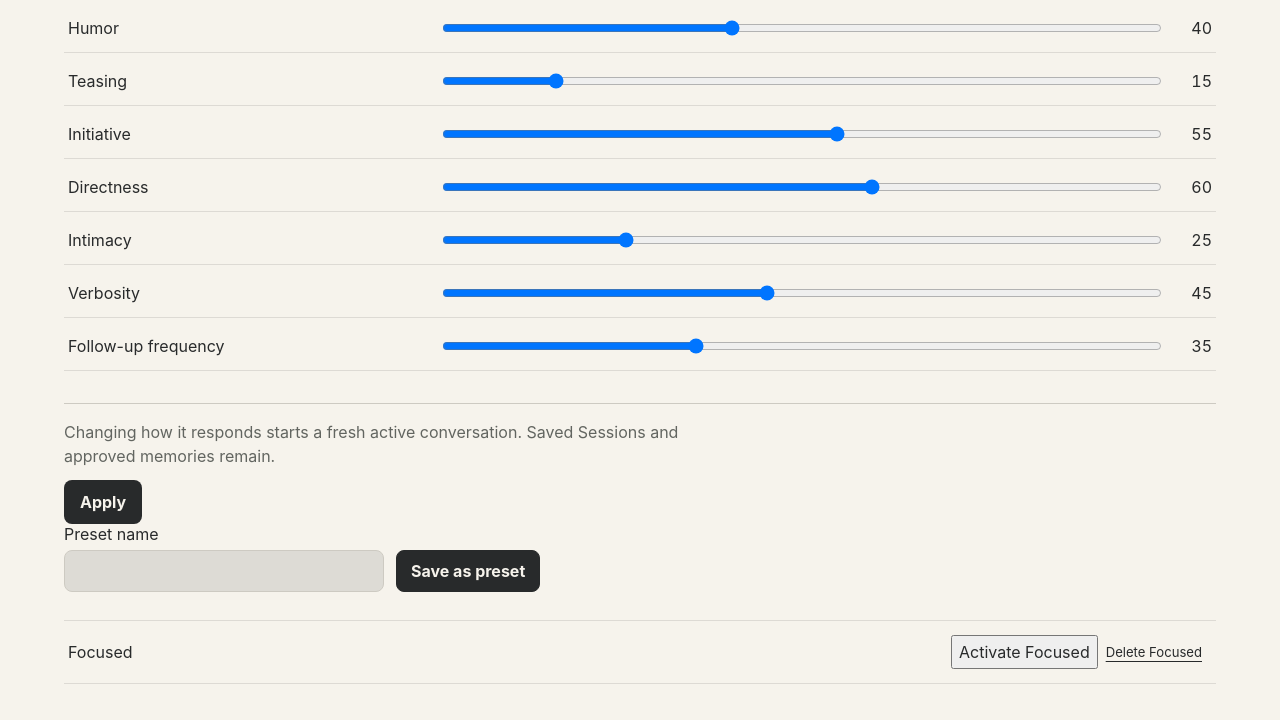
it: SettingsPane › activates a stored preset by applying it and marking it active
(page scrolled)
Step 1. Click the button "Activate Focused" → (1024, 652), box [951,635,1098,669]
(page scrolled)
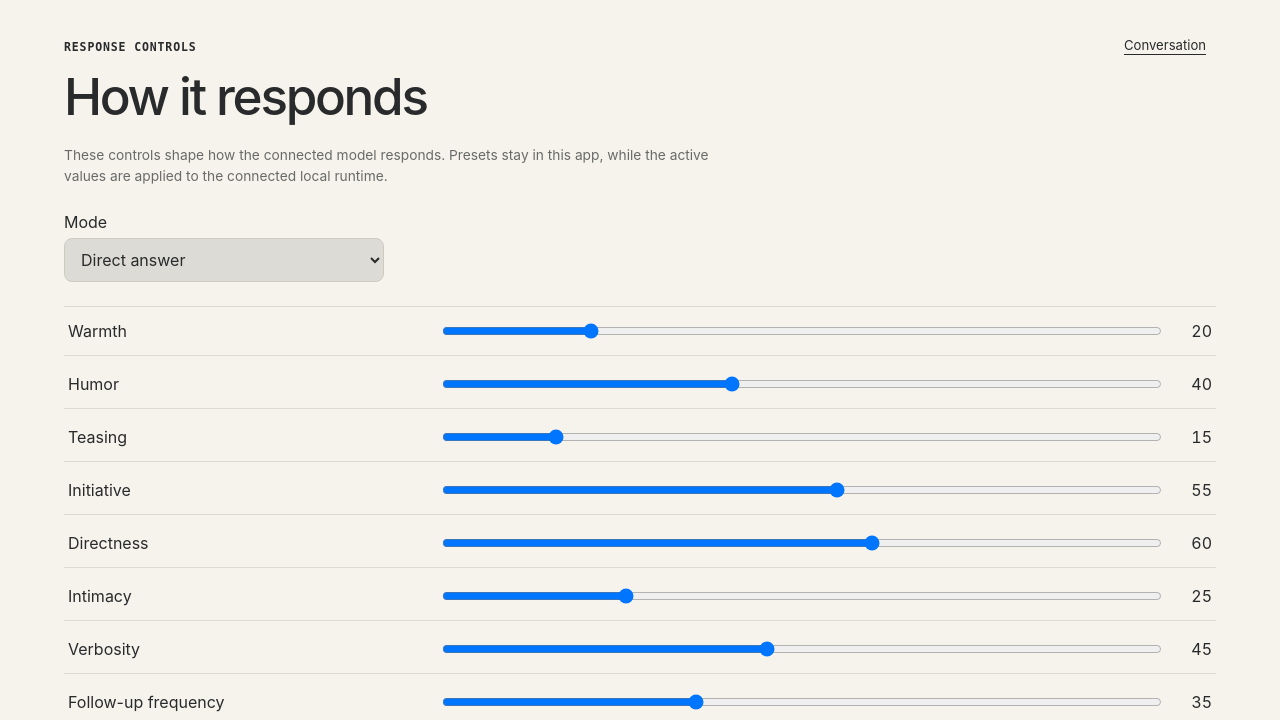
Result: the slider labelled "Warmth" holds "20" at [442,323,1162,339]
